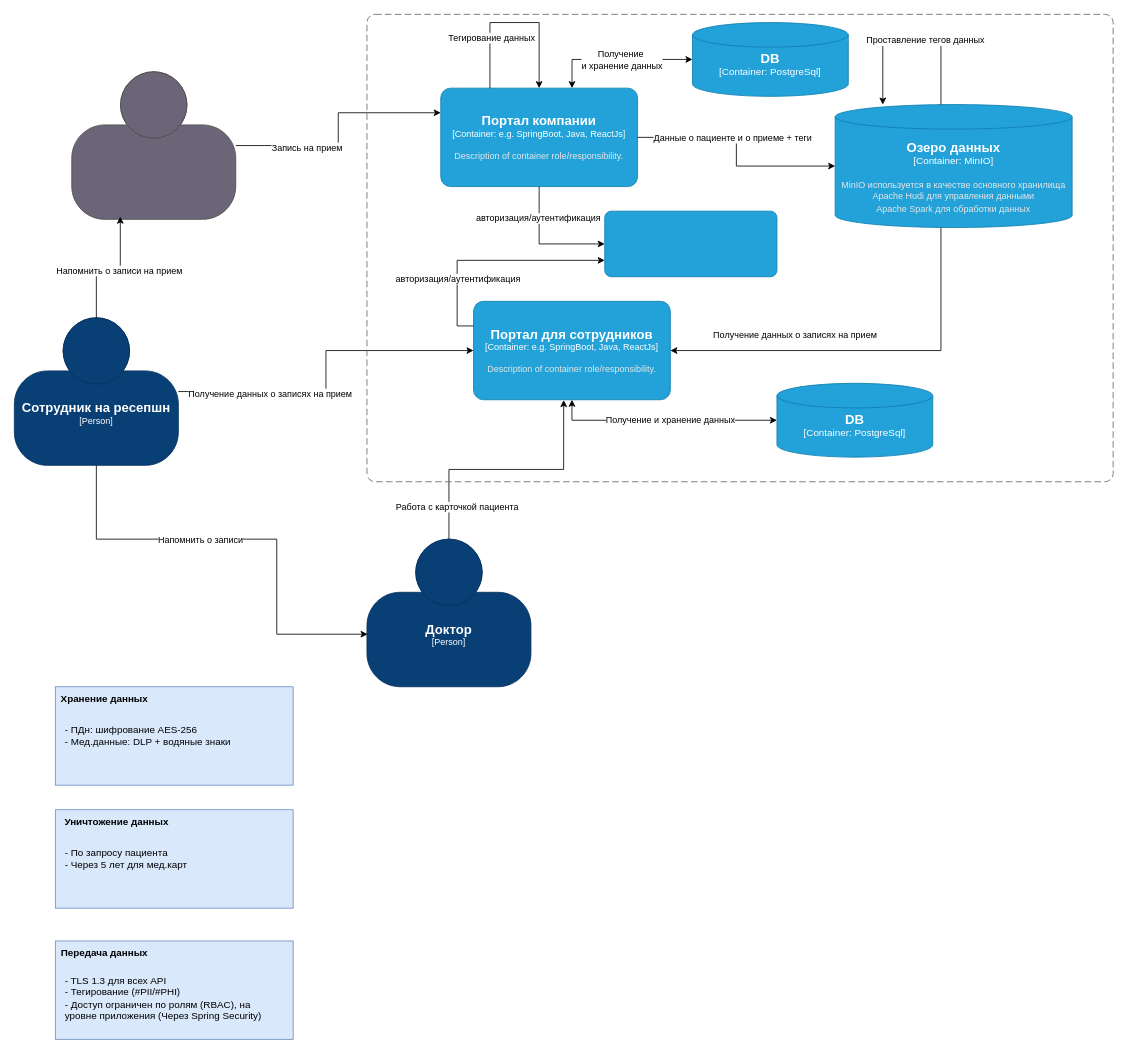
This 1128x1054 diagram has some shape labels left out. The box of each missing label's shape, as (x1, y1, x2, y2) in pixels:
Keycloak [Container: ] Для аутентификации и авторизации, и ролей: (604, 210, 777, 277)
Медикаменте [Software System]: (366, 14, 1113, 482)
Пациент [Person]: (71, 71, 236, 219)
